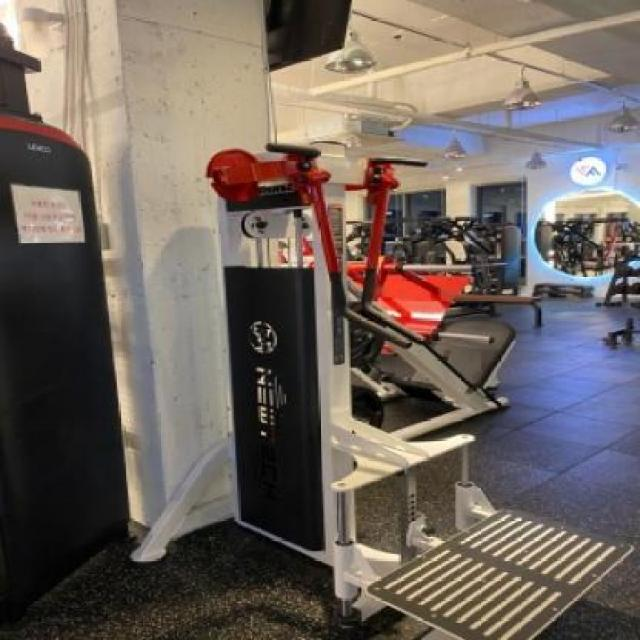lateral raises machine: (129, 137, 442, 640)
